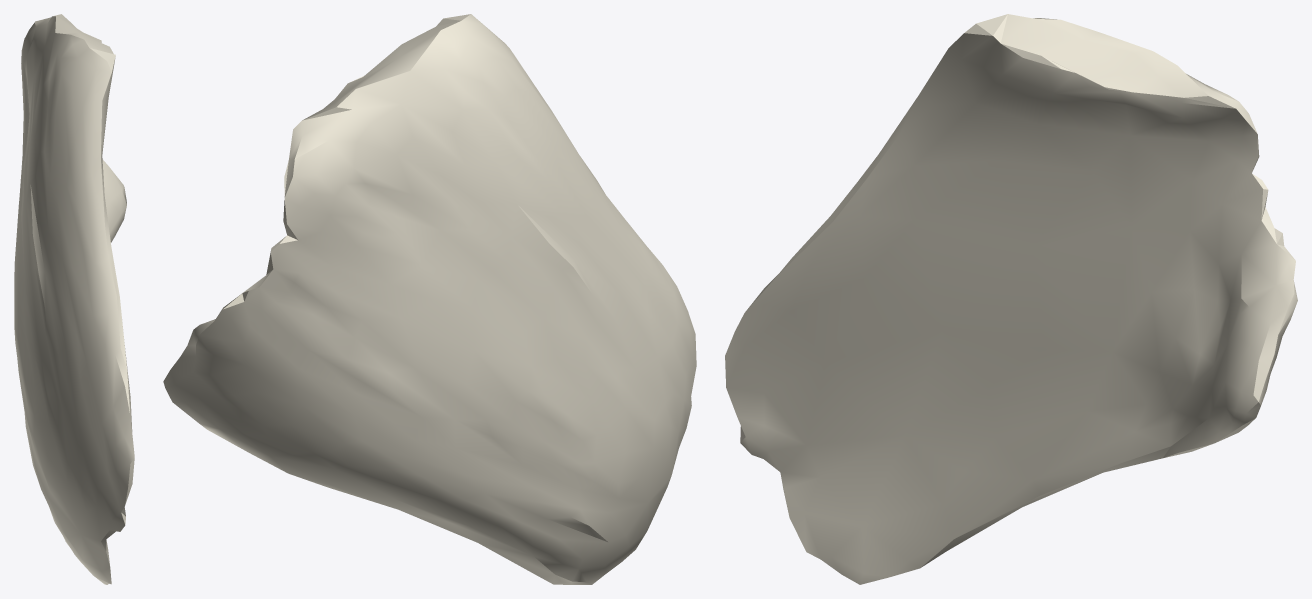
Rendered from fma326806-r_mm1479m.glb.
The picture shows the model from 3 angles, left to right: view 1: azimuth 30°, elevation 25°; view 2: azimuth 150°, elevation 25°; view 3: azimuth 270°, elevation 25°; orthographic projection. The views are drawn at different scales.
Visible parts, largest first — view 1: FMA326806-R_MM1479M; view 2: FMA326806-R_MM1479M; view 3: FMA326806-R_MM1479M.
Boxes of the visible parts, box(x1,y1,x2,y2) form: FMA326806-R_MM1479M: box(14, 14, 134, 584); FMA326806-R_MM1479M: box(163, 14, 696, 584); FMA326806-R_MM1479M: box(725, 14, 1297, 584).
Size of the model in its own units: 0.00473 by 0.00973 by 0.00845.
